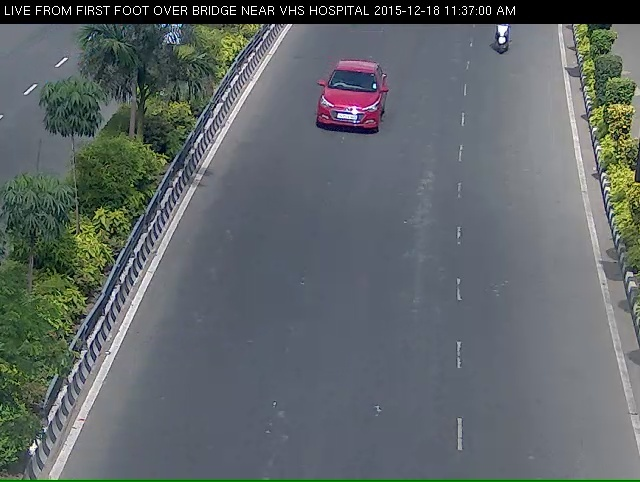Car: (312, 66, 389, 168)
Person: (487, 23, 521, 69)
